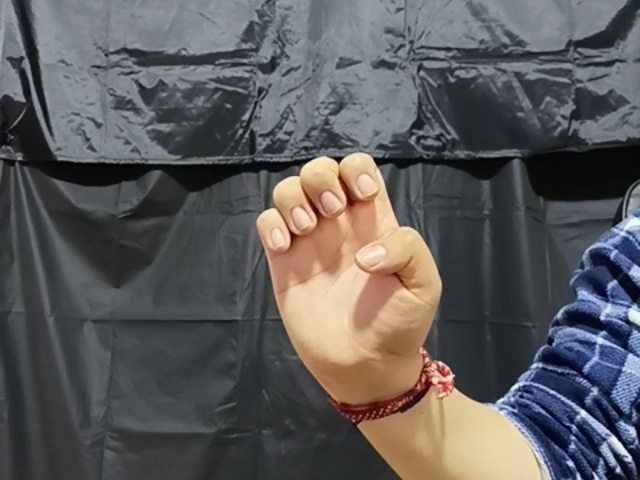E: (256, 150, 447, 383)
